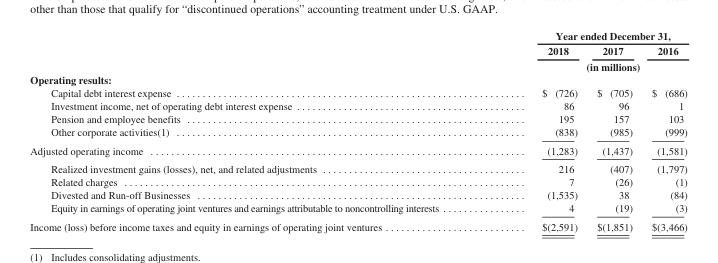table: (29, 28, 686, 231)
table column: (29, 28, 489, 231), (489, 28, 586, 231), (586, 28, 641, 231), (641, 28, 686, 231)
table column header: (29, 28, 686, 72)
table projected row header: (29, 72, 686, 86)
table row: (29, 141, 686, 159), (29, 42, 686, 58), (29, 125, 686, 141), (29, 159, 686, 175), (29, 201, 686, 216), (29, 216, 686, 231), (29, 28, 686, 42), (29, 58, 686, 72), (29, 72, 686, 86), (29, 86, 686, 99), (29, 99, 686, 112), (29, 112, 686, 125), (29, 175, 686, 188), (29, 188, 686, 201)
table spanning cell: (489, 28, 686, 42), (489, 58, 686, 72)
